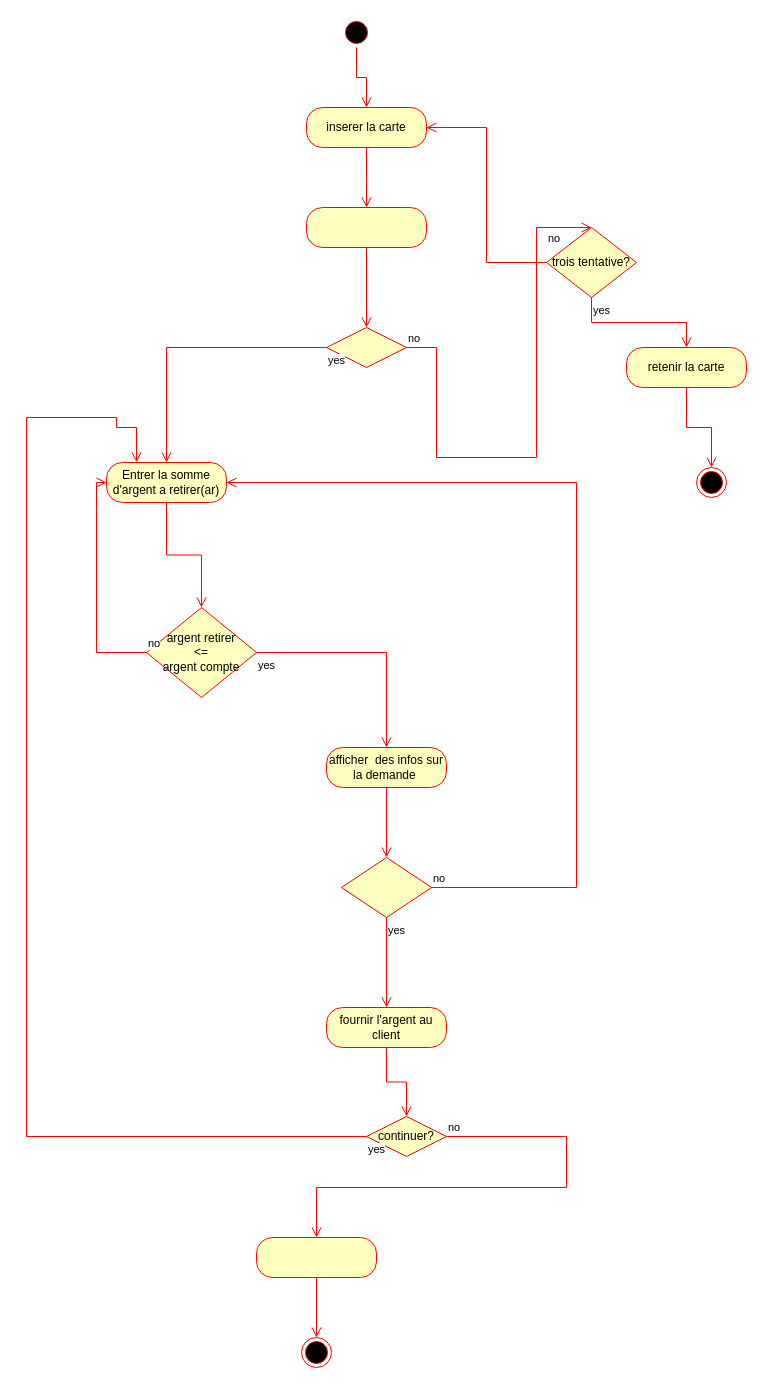
Some shapes in this 764 by 1385 pixel diagram are drawn without their labels. The centre of each missing label's shape, as x and y in pixels:
code juste: the point at 366,347
Ejecter la carte: the point at 316,1257
Entrer le code secre: the point at 366,227
valider la demande: the point at 386,887
